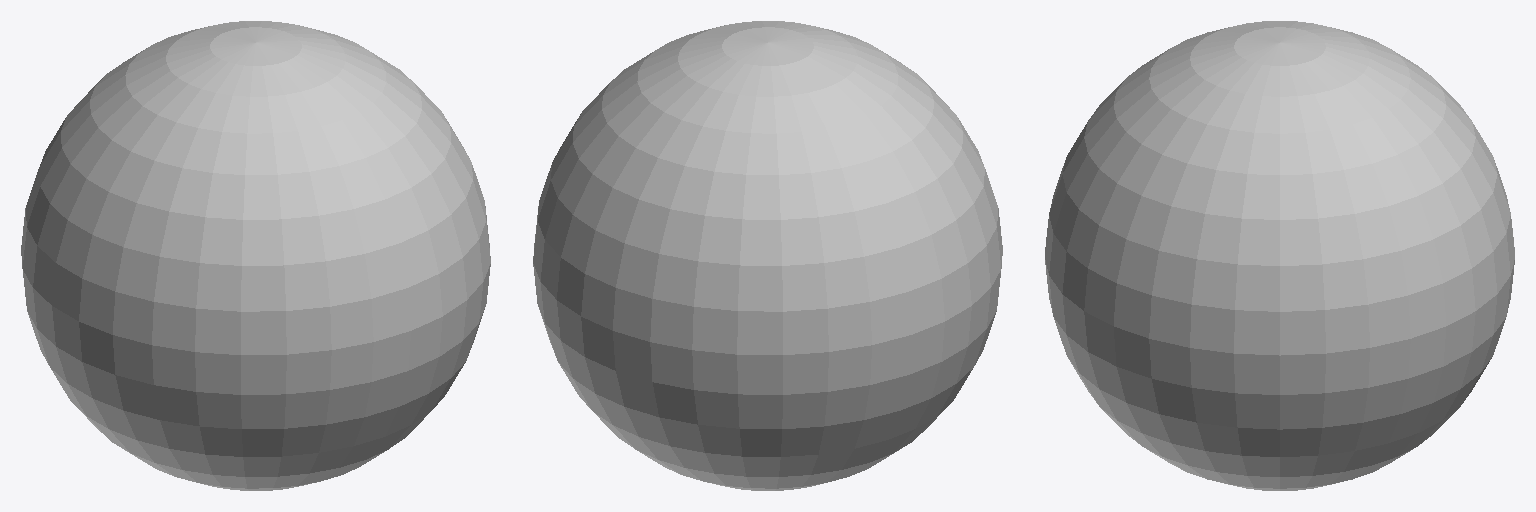
The model's file is skydome.obj.
The picture shows the model from 3 angles: view 1: azimuth 30°, elevation 25°; view 2: azimuth 150°, elevation 25°; view 3: azimuth 270°, elevation 25°; orthographic projection.
Parts seen in each view (by area): view 1: 球; view 2: 球; view 3: 球.
Part boxes in pixels (x1,y1,x2,y2): 球: (21,21,490,490); 球: (533,21,1002,490); 球: (1045,21,1514,490).
Bounding box in the file's own units: 2 × 2 × 2.